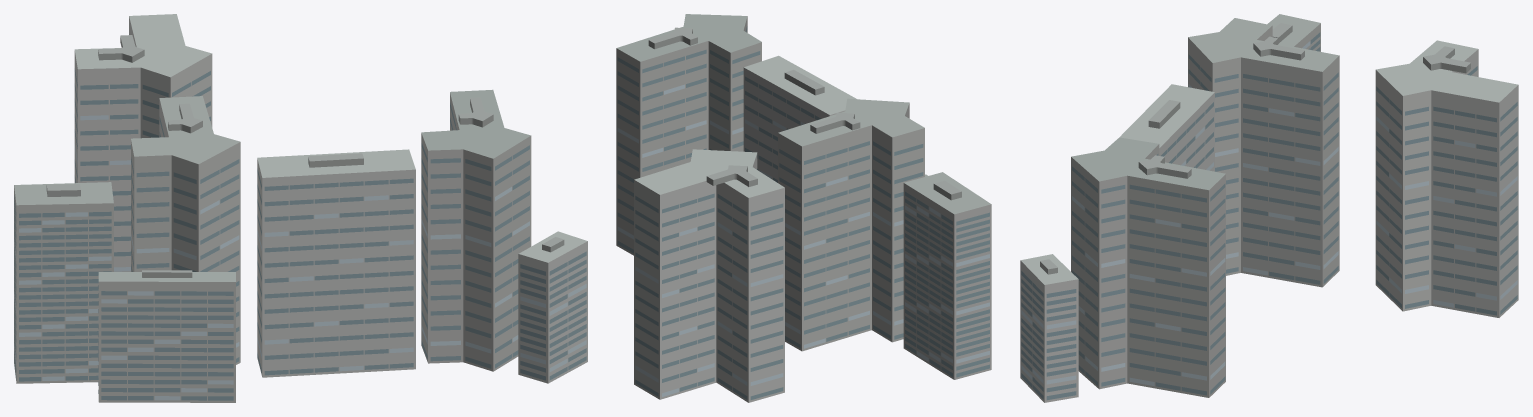
The model's file is apt-a10024789.glb.
3 views of the same model, side by side, from view 1: azimuth 30°, elevation 25°; view 2: azimuth 150°, elevation 25°; view 3: azimuth 270°, elevation 25° (orthographic). The views are drawn at different scales.
Visible parts, largest first — view 1: apt-a10024789; view 2: apt-a10024789; view 3: apt-a10024789.
Boxes of the visible parts, box(x1,y1,x2,y2) form: apt-a10024789: box(14, 14, 587, 402); apt-a10024789: box(616, 14, 991, 402); apt-a10024789: box(1020, 14, 1518, 402).
Size of the model in its own units: 179 by 86 by 175.
